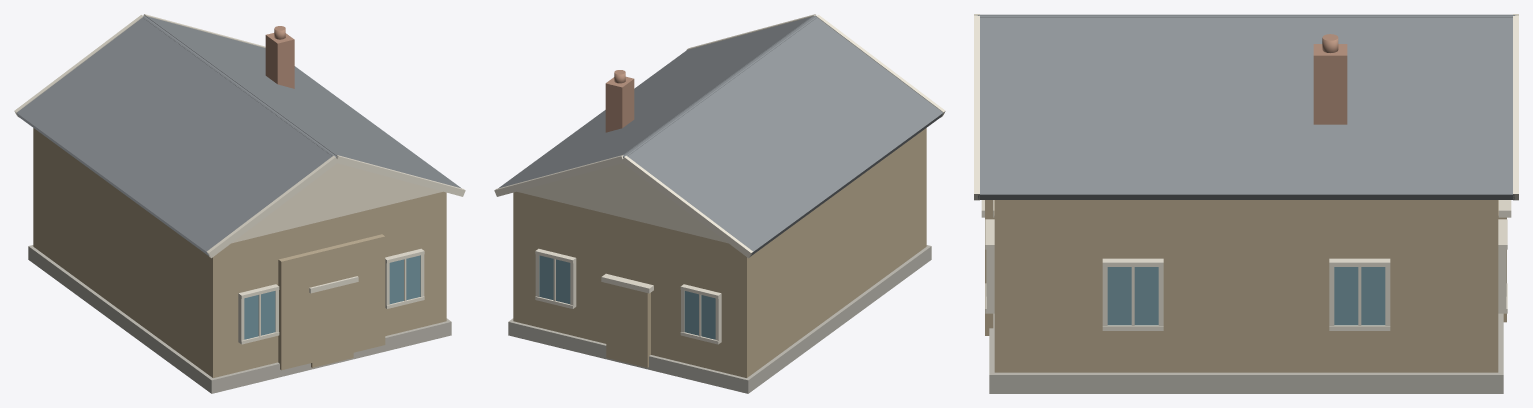
The model's file is tyne-barn_lod0.glb.
3 views of the same model, side by side, from view 1: azimuth 30°, elevation 25°; view 2: azimuth 150°, elevation 25°; view 3: azimuth 270°, elevation 25° (orthographic). The views are drawn at different scales.
Parts seen in each view (by area): view 1: RF_Body, RF_Roof.001, RF_BarnDoors, RF_Roof, RF_Foundation, RF_Gable, RF_Chimney, RF_Vergeband.001, RF_Window.002, RF_Window.001, RF_Vergeband.003, RF_Ridge (+1 smaller); view 2: RF_Body, RF_Roof.001, RF_Roof, RF_Foundation, RF_Gable.001, RF_Door, RF_Chimney, RF_Vergeband.002, RF_Window.004, RF_Window.003, RF_Vergeband, RF_Ridge (+2 smaller); view 3: RF_Roof, RF_Body, RF_Foundation, RF_Window.005, RF_Window, RF_Chimney, RF_Ridge, RF_Vergeband, RF_Vergeband.003, RF_WindowFrame.004, RF_WindowFrame.008, RF_WindowSill.010 (+3 smaller).
Boxes of the visible parts, x1=… form: RF_Body: x1=33, y1=128, x2=446, y2=377; RF_Roof.001: x1=16, y1=16, x2=333, y2=256; RF_BarnDoors: x1=278, y1=234, x2=385, y2=370; RF_Roof: x1=145, y1=16, x2=461, y2=188; RF_Foundation: x1=28, y1=245, x2=451, y2=393; RF_Gable: x1=231, y1=163, x2=442, y2=243; RF_Chimney: x1=265, y1=33, x2=294, y2=88; RF_Vergeband.001: x1=207, y1=155, x2=338, y2=258; RF_Window.002: x1=389, y1=255, x2=420, y2=304; RF_Window.001: x1=244, y1=291, x2=275, y2=339; RF_Vergeband.003: x1=336, y1=155, x2=465, y2=196; RF_Ridge: x1=143, y1=15, x2=336, y2=157; RF_Body: x1=513, y1=128, x2=926, y2=377; RF_Roof.001: x1=626, y1=16, x2=942, y2=256; RF_Roof: x1=498, y1=15, x2=814, y2=188; RF_Foundation: x1=508, y1=245, x2=931, y2=393; RF_Gable.001: x1=517, y1=163, x2=728, y2=243; RF_Door: x1=606, y1=283, x2=650, y2=367; RF_Chimney: x1=605, y1=76, x2=634, y2=132; RF_Vergeband.002: x1=621, y1=155, x2=752, y2=258; RF_Window.004: x1=539, y1=255, x2=570, y2=304; RF_Window.003: x1=684, y1=291, x2=715, y2=339; RF_Vergeband: x1=494, y1=155, x2=623, y2=196; RF_Ridge: x1=623, y1=15, x2=816, y2=157; RF_Roof: x1=978, y1=16, x2=1514, y2=199; RF_Body: x1=994, y1=200, x2=1498, y2=372; RF_Foundation: x1=989, y1=313, x2=1503, y2=393; RF_Window.005: x1=1107, y1=267, x2=1158, y2=325; RF_Window: x1=1334, y1=267, x2=1385, y2=325; RF_Chimney: x1=1313, y1=44, x2=1347, y2=124; RF_Ridge: x1=977, y1=14, x2=1515, y2=17; RF_Vergeband: x1=1513, y1=16, x2=1518, y2=200; RF_Vergeband.003: x1=974, y1=16, x2=979, y2=200; RF_WindowFrame.004: x1=986, y1=243, x2=994, y2=313; RF_WindowFrame.008: x1=1498, y1=243, x2=1506, y2=313; RF_WindowSill.010: x1=1102, y1=258, x2=1163, y2=266.
Size of the model in its own units: 9.91 by 8.47 by 12.98.
